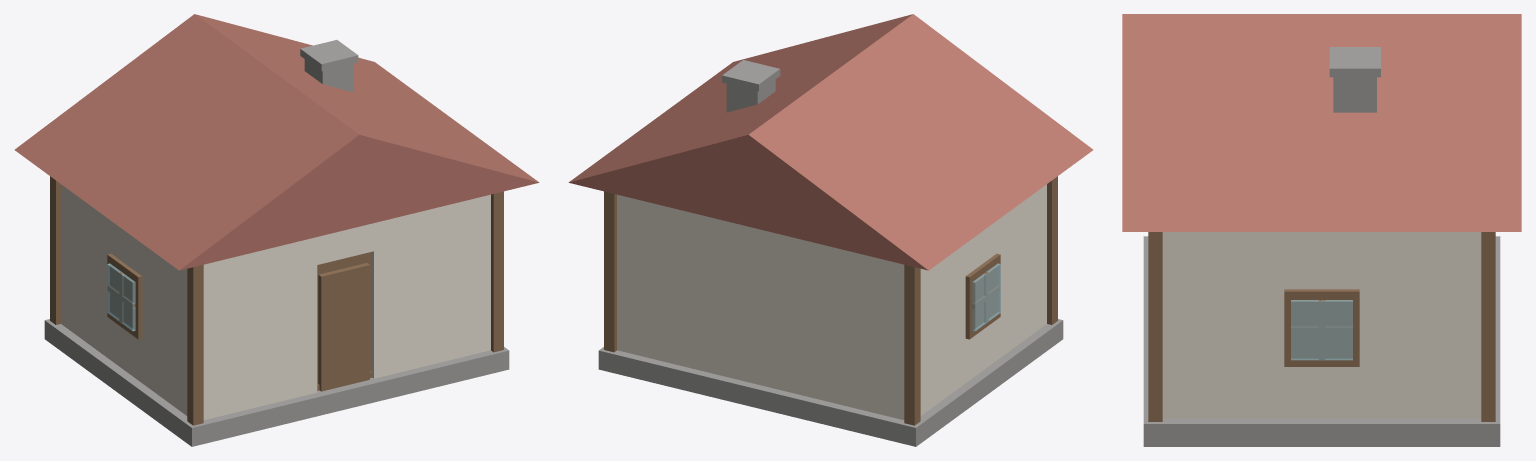
File: BLD-shop-01.glb
The picture shows the model from 3 angles, left to right: view 1: azimuth 30°, elevation 25°; view 2: azimuth 150°, elevation 25°; view 3: azimuth 270°, elevation 25°; orthographic projection. The views are drawn at different scales.
Parts seen in each view (by area): view 1: BLD-shop-01; view 2: BLD-shop-01; view 3: BLD-shop-01.
Boxes of the visible parts, left/top/right/bottom form: BLD-shop-01: left=14, top=14, right=539, bottom=446; BLD-shop-01: left=568, top=14, right=1093, bottom=446; BLD-shop-01: left=1122, top=14, right=1521, bottom=446.
Bounding box in the file's own units: 6.36 × 4.72 × 5.04.
